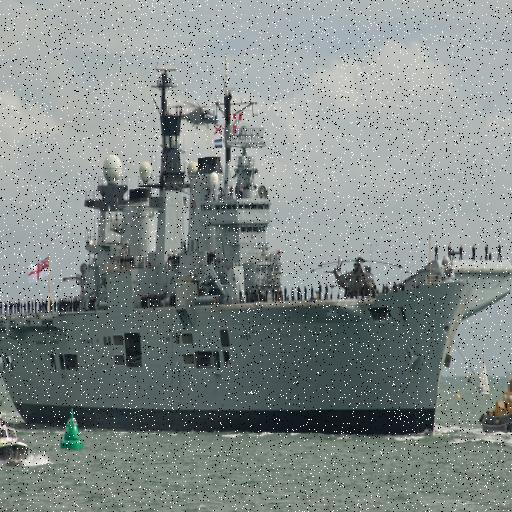Portanaves: (1, 48, 512, 445)
